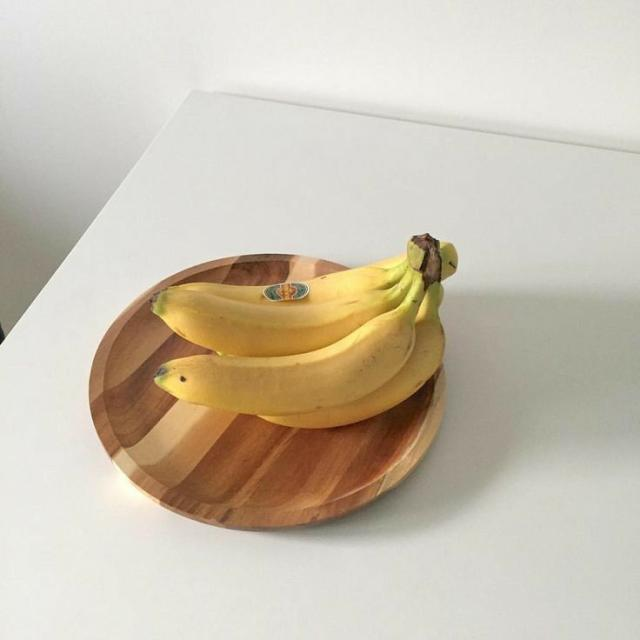unpeal banana: (154, 273, 425, 415), (262, 283, 445, 427), (153, 266, 413, 356), (285, 255, 406, 306), (294, 253, 406, 304), (440, 241, 458, 279)
